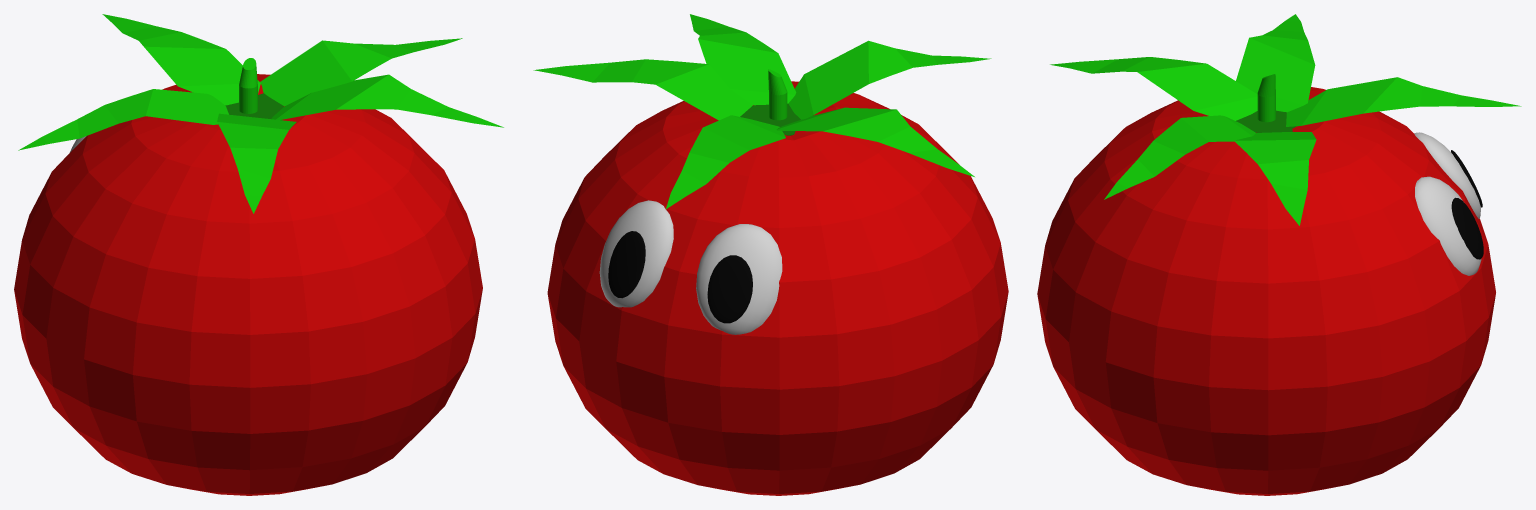
The model's file is game_tomato.obj.
The picture shows the model from 3 angles, left to right: view 1: azimuth 30°, elevation 25°; view 2: azimuth 150°, elevation 25°; view 3: azimuth 270°, elevation 25°; orthographic projection. The views are drawn at different scales.
Parts seen in each view (by area): view 1: Plane.002; view 2: Plane.002; view 3: Plane.002.
Boxes of the visible parts, left/top/right/bottom form: Plane.002: left=14, top=14, right=503, bottom=495; Plane.002: left=533, top=14, right=1008, bottom=495; Plane.002: left=1037, top=14, right=1521, bottom=495.
Bounding box in the file's own units: 2.21 × 1.83 × 2.11.
